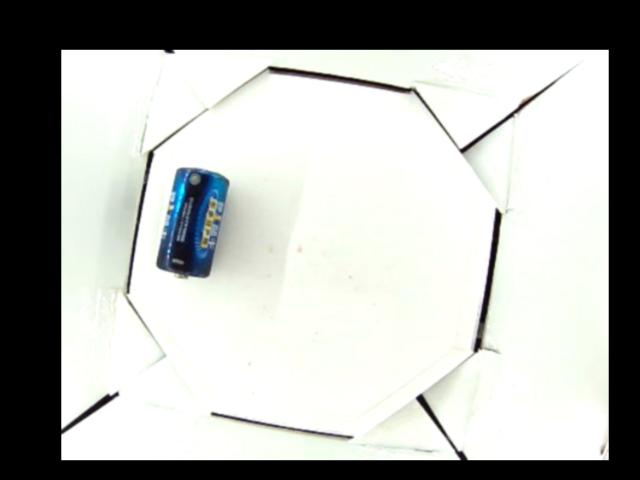Battery: (154, 166, 229, 278)
